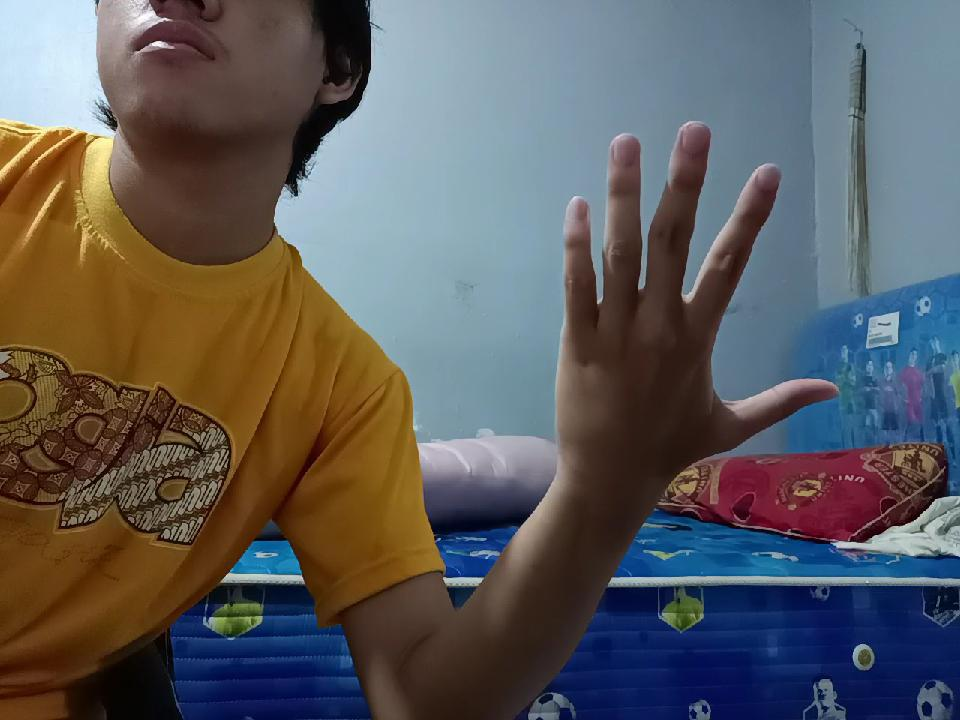paper: (544, 122, 811, 482)
